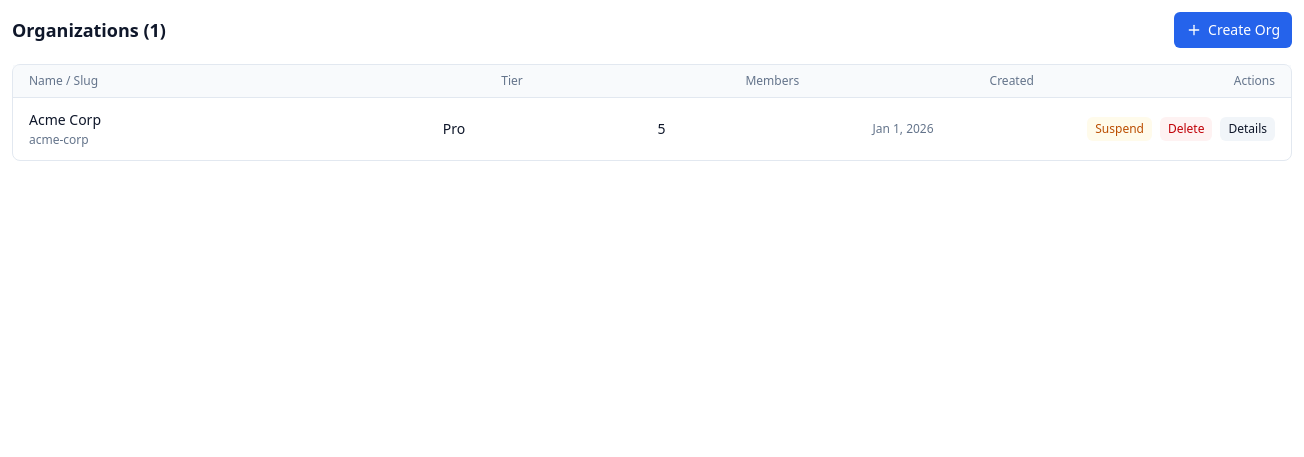
OrgManager › closes suspend dialog on cancel
Click the button with test id "suspend-btn-org_1" at (1120, 129), box [1087,117,1152,141]
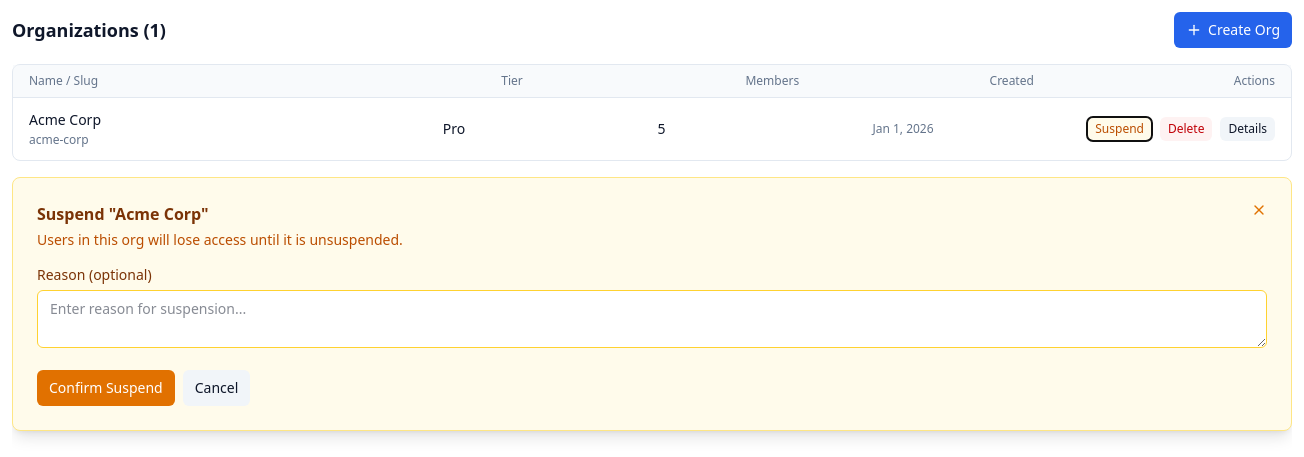
Click the button with test id "suspend-cancel-btn" at (216, 388), box [183,370,250,406]
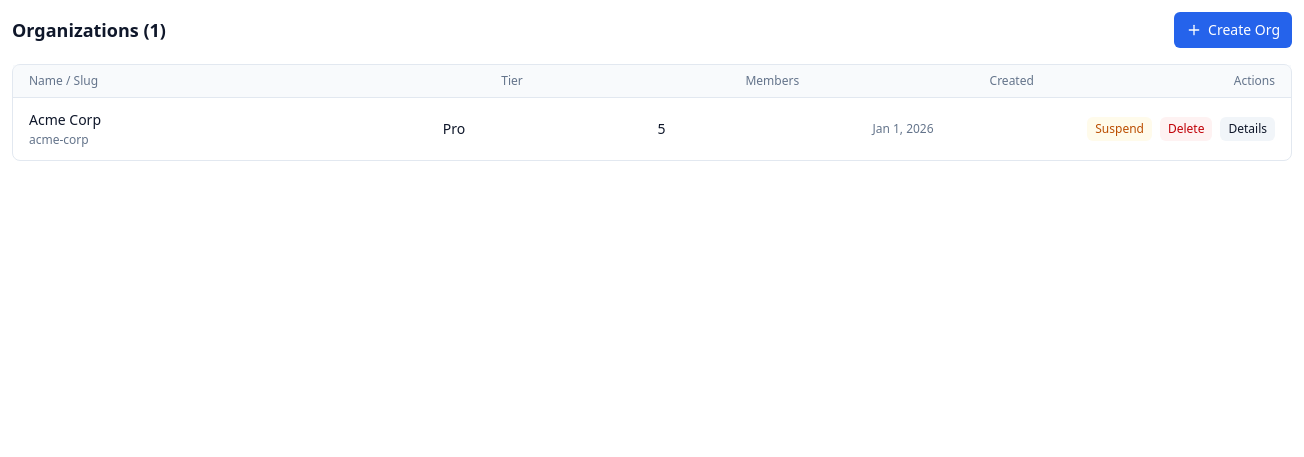
Check: the element with test id "suspend-confirm-dialog" is gone
